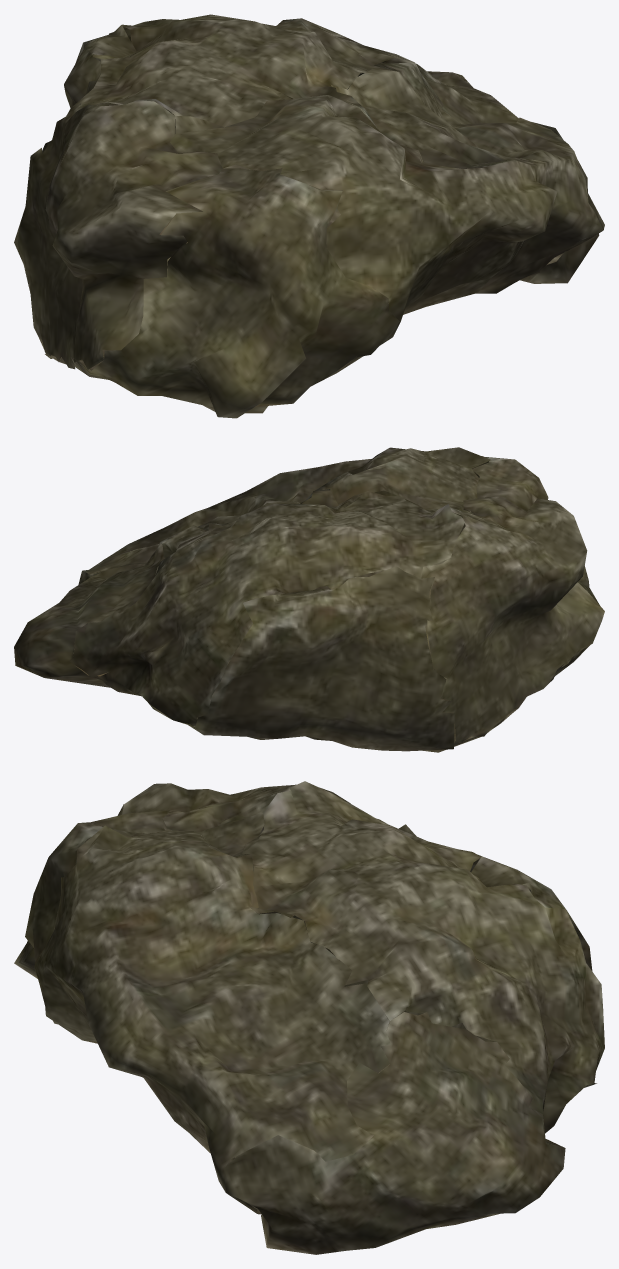
Rendered from pr_moss_b_04.fbx.
3 renders of one model, top to bottom at view 1: azimuth 30°, elevation 25°; view 2: azimuth 150°, elevation 25°; view 3: azimuth 270°, elevation 25°, orthographic. The views are drawn at different scales.
Visible parts, largest first — view 1: pr_moss_b_04_LOD0; view 2: pr_moss_b_04_LOD0; view 3: pr_moss_b_04_LOD0.
Boxes of the visible parts, x1,y1,x2,y2 form: pr_moss_b_04_LOD0: [14, 14, 604, 418]; pr_moss_b_04_LOD0: [14, 447, 604, 752]; pr_moss_b_04_LOD0: [14, 781, 604, 1254].
Size of what is drawn, in the model's own units: 1.57 by 0.7353 by 1.44.
